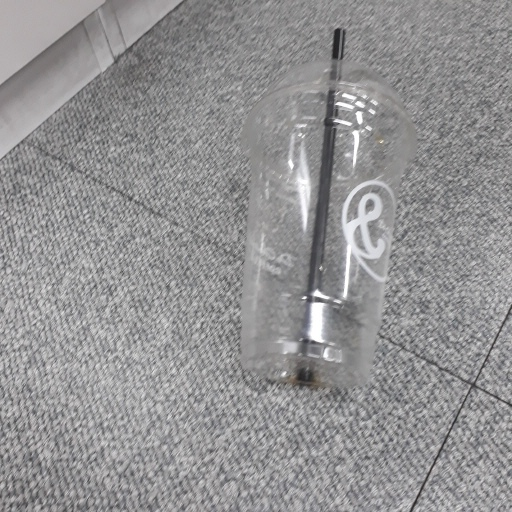Plastic_2: (241, 28, 417, 397)
